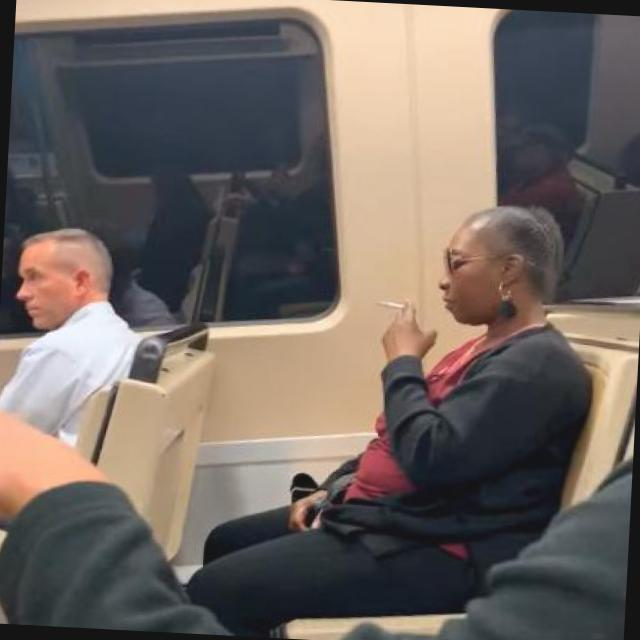cigarette: (366, 286, 429, 336)
